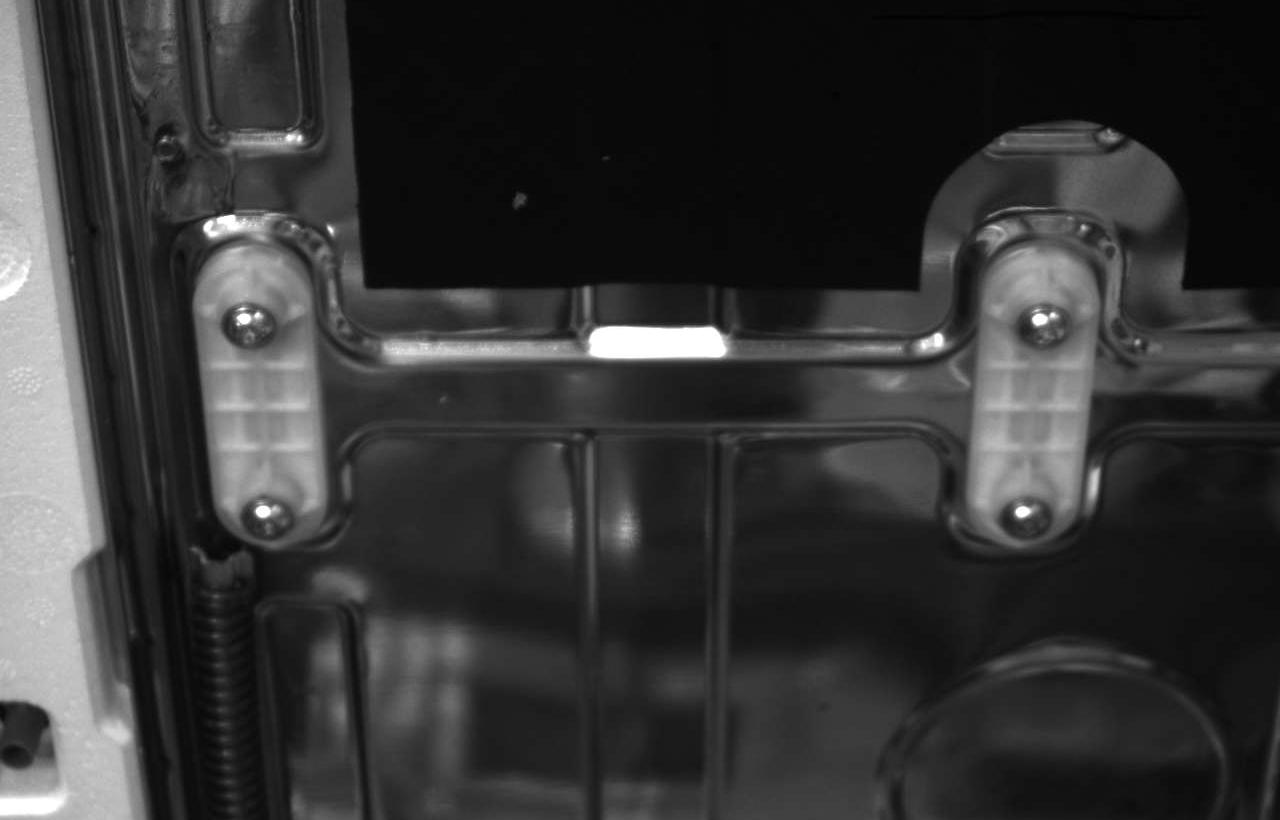vida-ok: (199, 287, 286, 365), (1002, 287, 1090, 360), (227, 486, 307, 550), (985, 486, 1060, 545)
